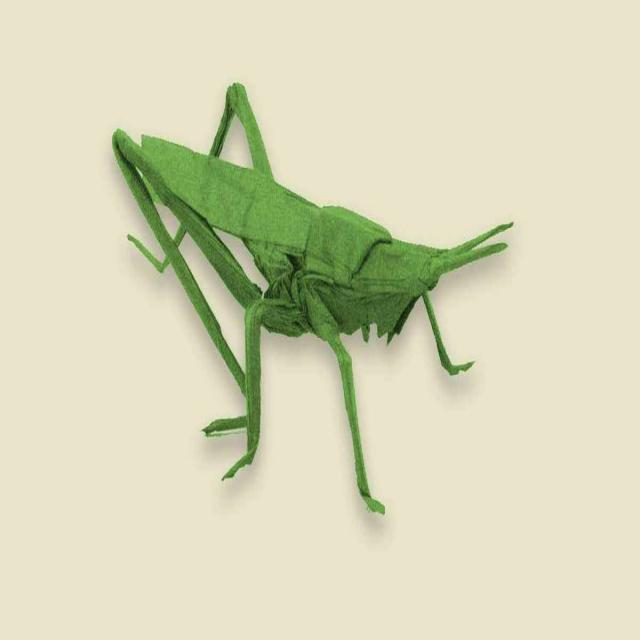ZhaMeng: (107, 61, 521, 510)
